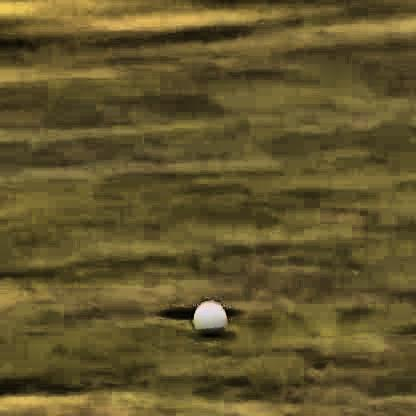golfball: (191, 295, 222, 331)
